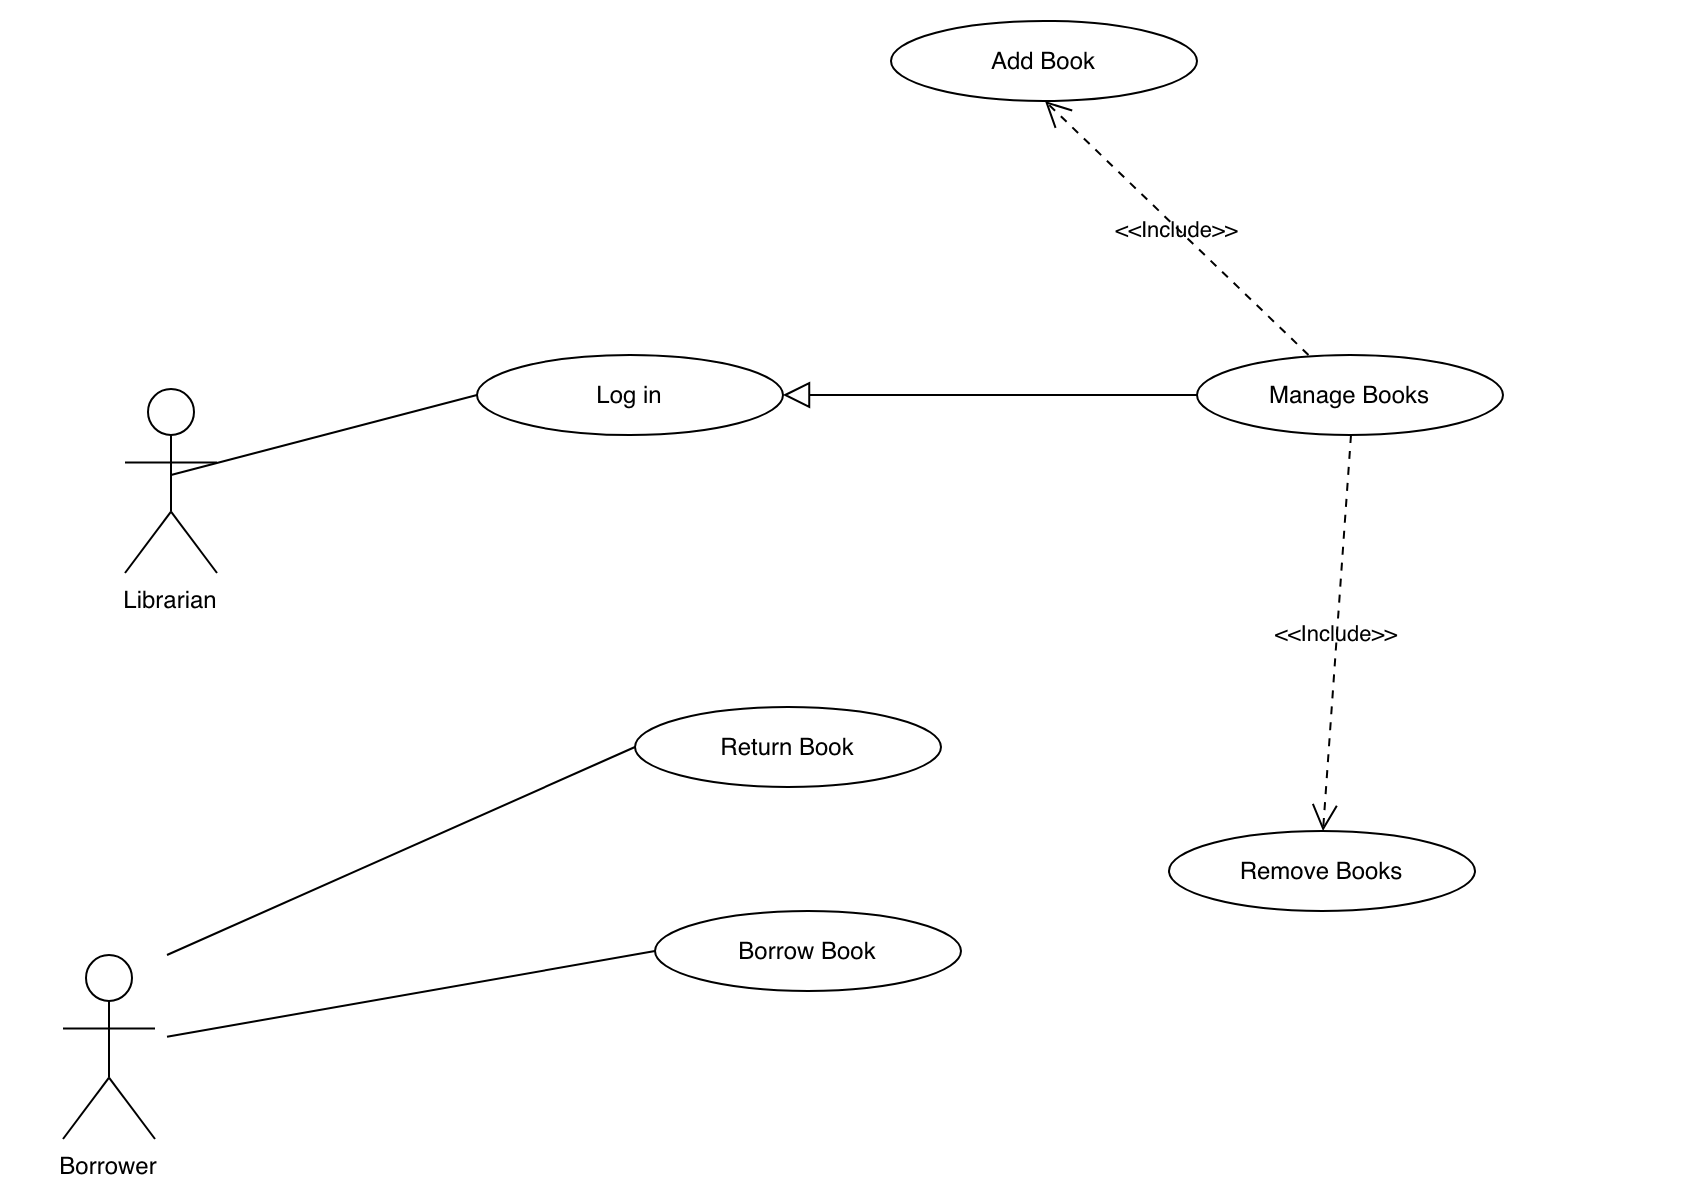actor: (113, 384, 234, 584), (58, 951, 163, 1146)
association: (162, 746, 628, 958), (1045, 100, 1302, 351), (162, 947, 652, 1039), (173, 393, 471, 476), (1309, 434, 1357, 827)
generalization: (787, 381, 1196, 412)
text: (1262, 373, 1435, 413), (1234, 854, 1410, 891), (713, 729, 872, 768), (735, 935, 883, 969), (1109, 212, 1244, 245), (979, 43, 1105, 76), (1271, 617, 1402, 648), (118, 582, 224, 617), (56, 1151, 166, 1184), (589, 369, 670, 412)
use_case: (472, 349, 790, 440), (652, 907, 966, 998), (633, 702, 941, 793), (1165, 827, 1479, 916), (1193, 351, 1505, 439), (887, 17, 1201, 104)
